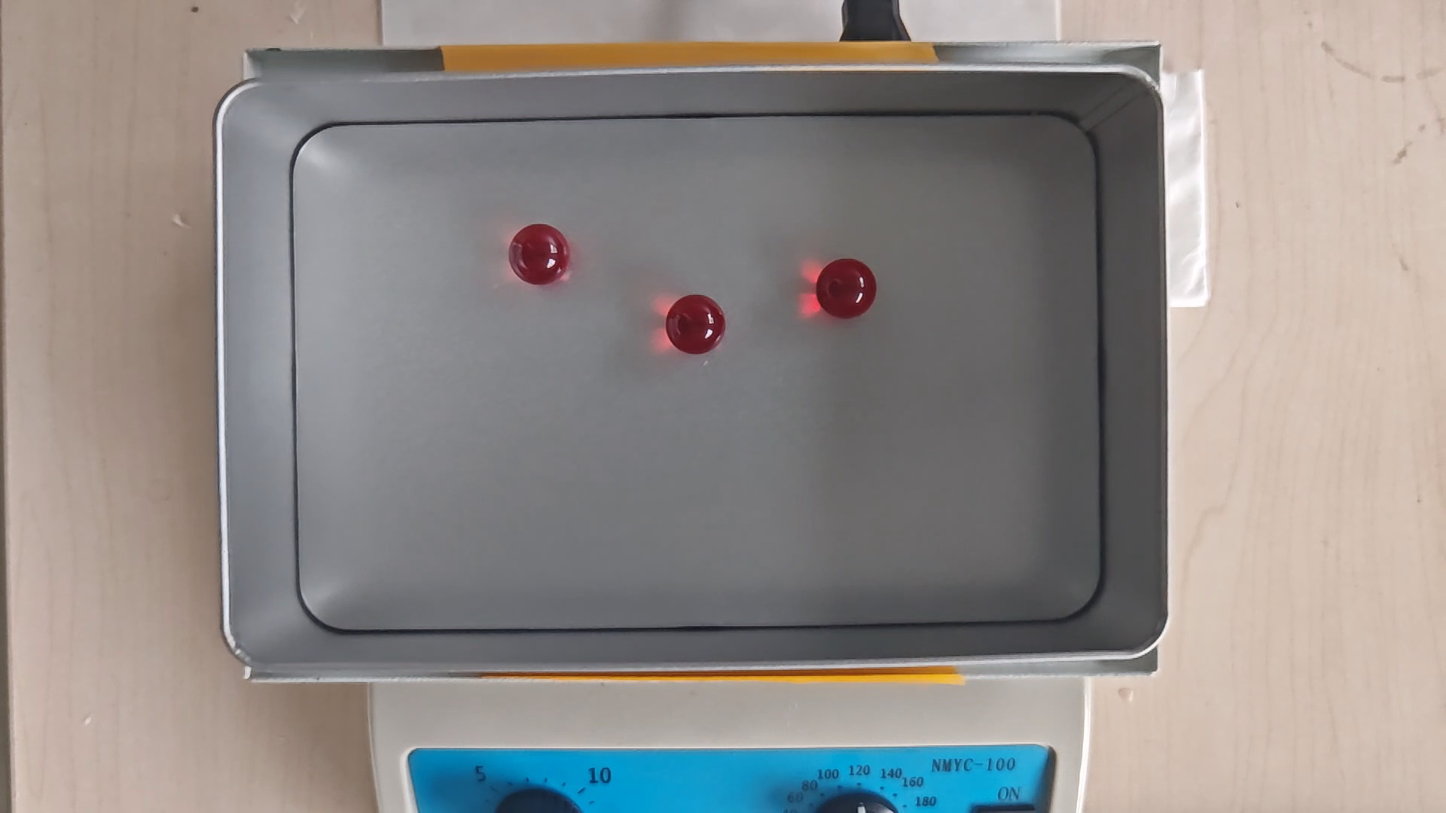ball: (816, 256, 877, 319), (510, 223, 566, 285), (668, 293, 723, 355)
container: (290, 116, 1103, 628)
